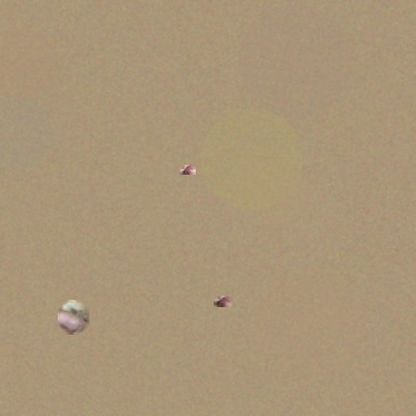rotten: (58, 300, 89, 335)
sprouted: (214, 296, 232, 307), (180, 165, 196, 175)
